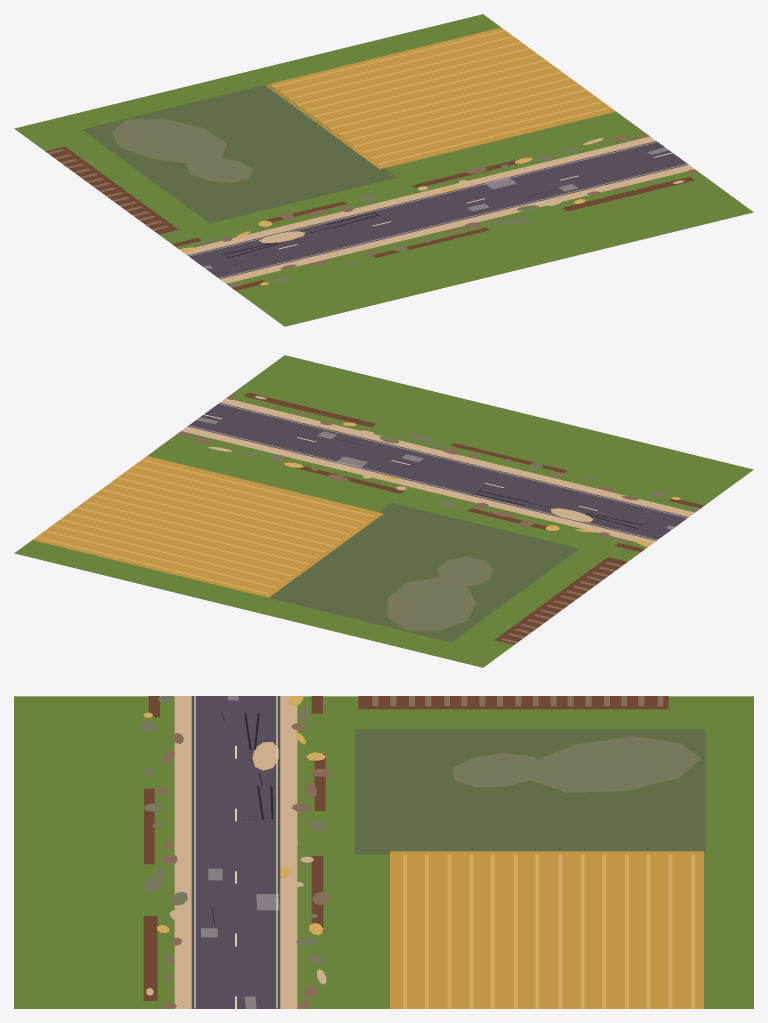
File: crossing-4-0.glb
3 views of the same model, one above another, from view 1: azimuth 30°, elevation 25°; view 2: azimuth 150°, elevation 25°; view 3: azimuth 270°, elevation 25° (orthographic). The views are drawn at different scales.
Visible parts, largest first — view 1: crossing-4-0; view 2: crossing-4-0; view 3: crossing-4-0.
Part boxes in pixels (x1,y1,x2,y2): crossing-4-0: (14, 14, 753, 326); crossing-4-0: (14, 355, 753, 667); crossing-4-0: (14, 696, 753, 1008).
Size of the model in its own units: 100 by 0.0145 by 100.
